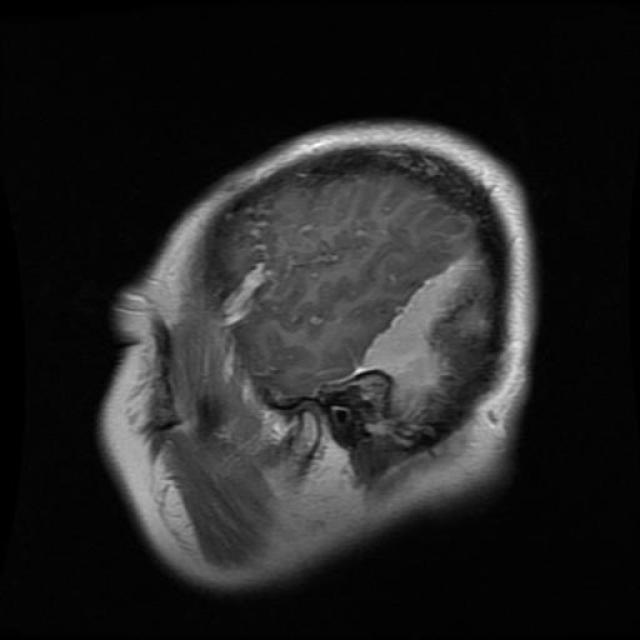meningioma: (362, 259, 478, 418)
